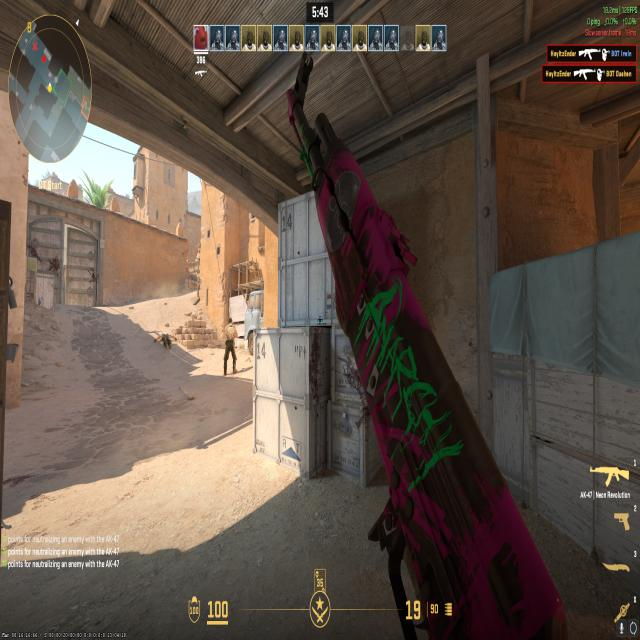t: (219, 307, 241, 383)
